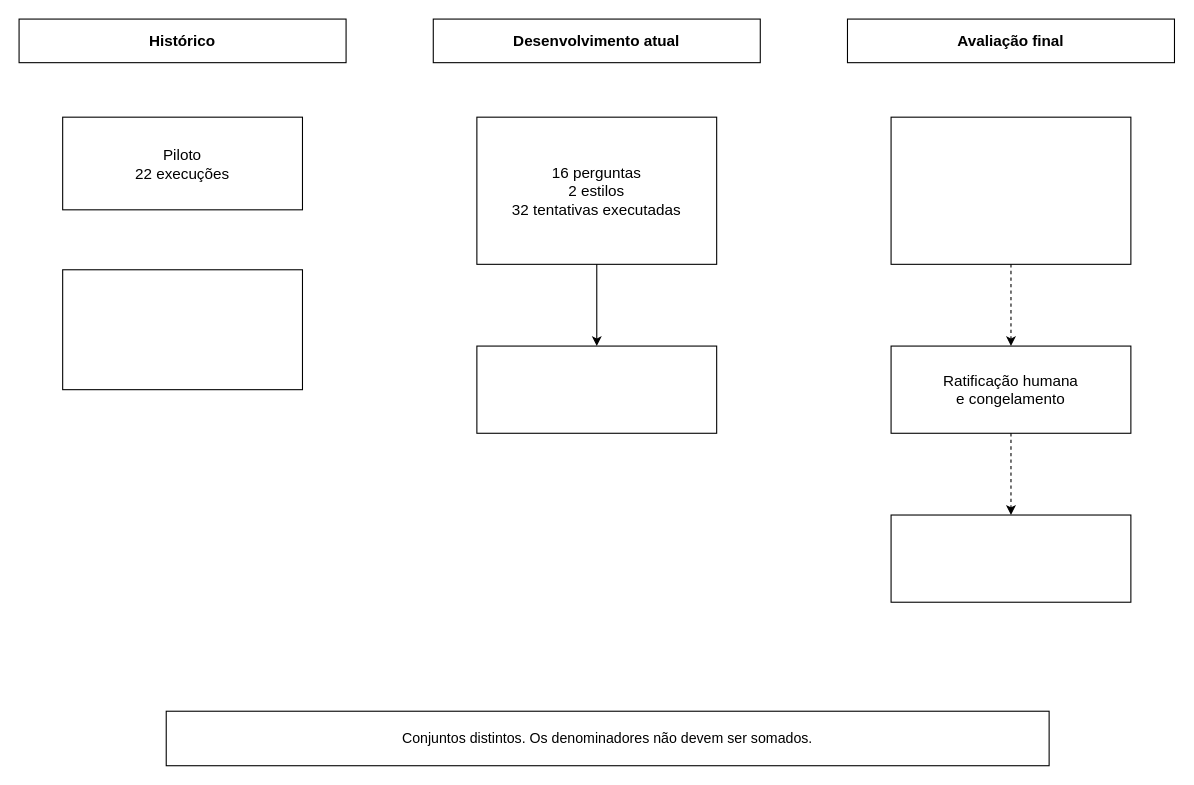
The diagram is 1194 pixels wide and 785 high, and some of its shapes have lost their labels. The shapes that lost their labels are listed below. From the top down, each one's centre as x and y in pixels, then its label:
At pixel 1010 190: "32 perguntas 16 famílias 2 estilos 64 tentativas planejadas".
At pixel 182 329: "Dois lotes de Ciências 108 execuções 27 perguntas reutilizadas".
At pixel 596 389: "Inspeção das respostas assistida por IA".
At pixel 1010 558: "Execução e revisão Planejadas".
